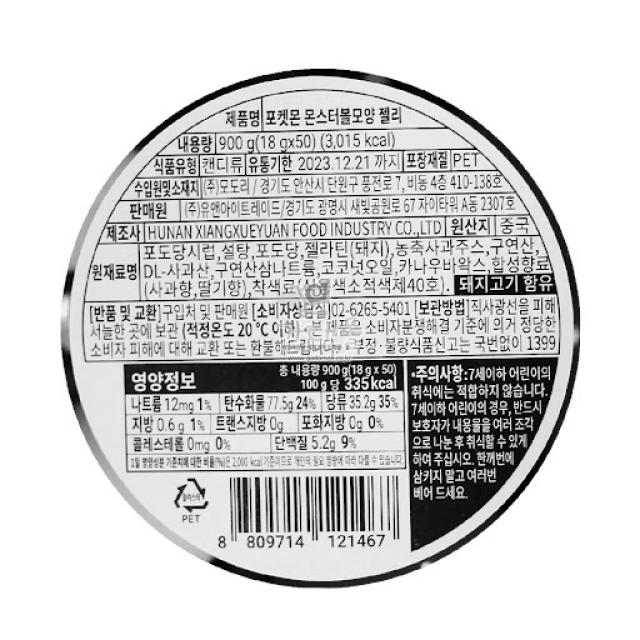Nutrition Label: (108, 349, 414, 482)
